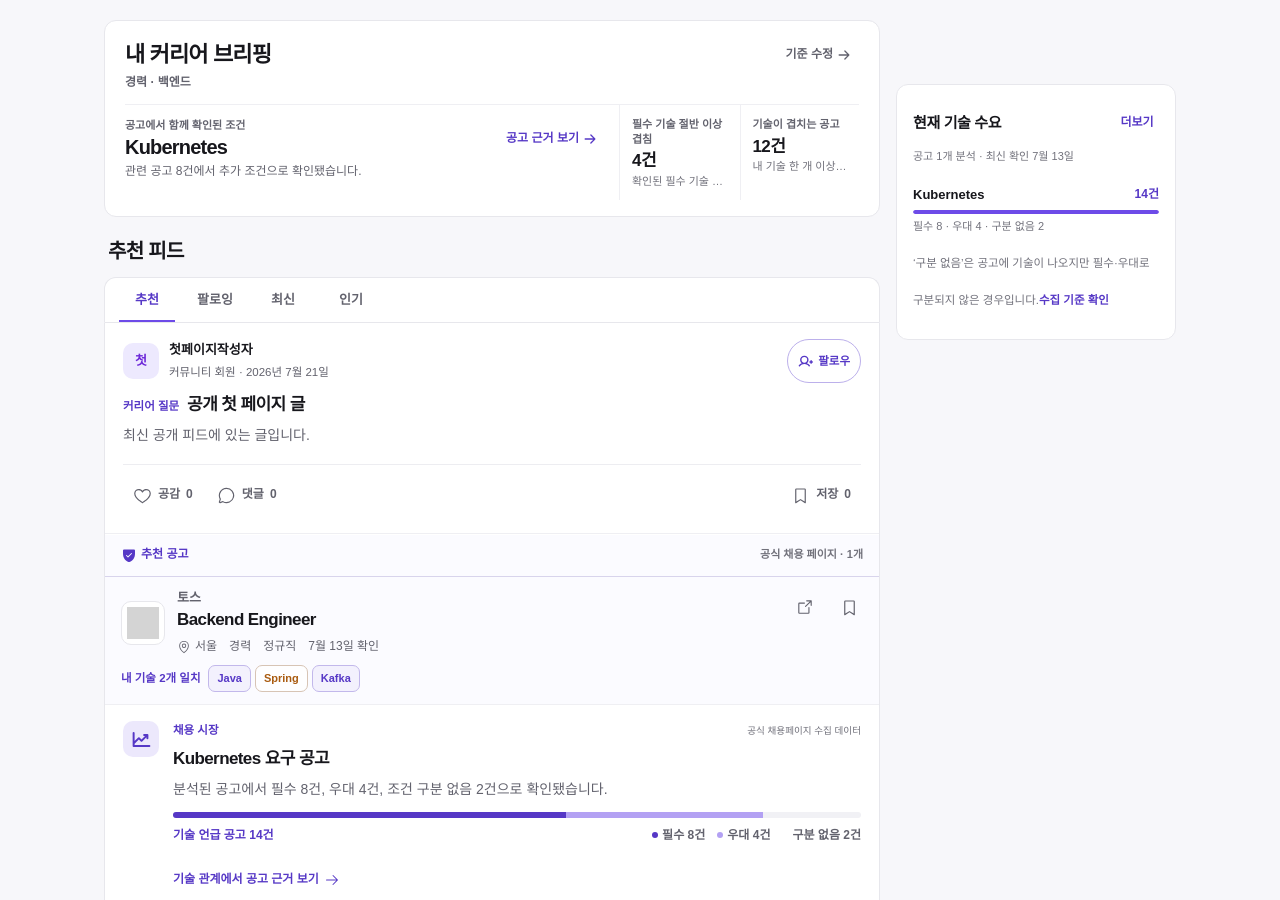
Test: HomeFeed › loads followed authors from the complete server feed beyond the public first page
Expected: the element "공개 첫 페이지 글" is shown, [105,324,879,534]
Click the tab "팔로잉" at (215, 300), box [187,278,243,322]
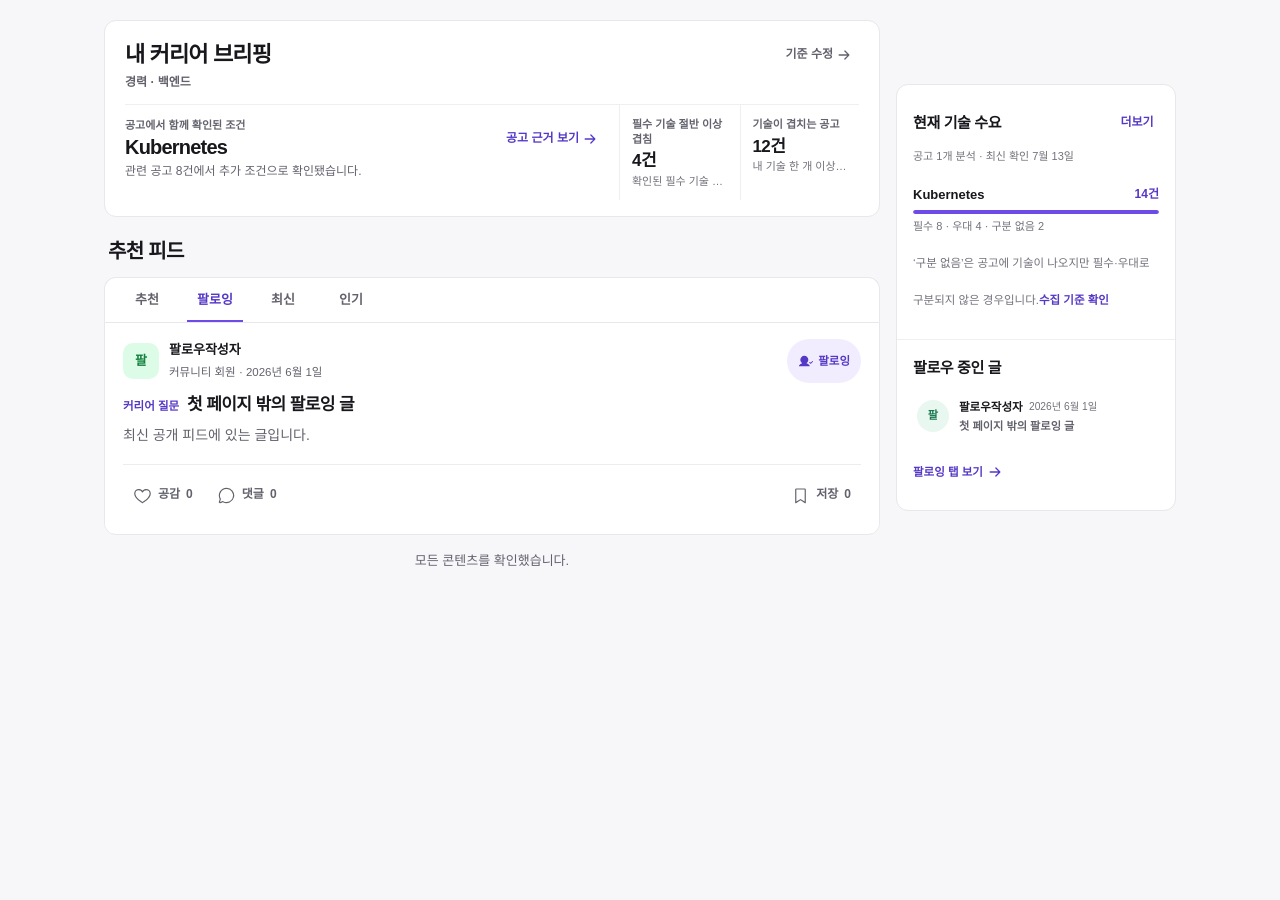
Expected: the element "첫 페이지 밖의 팔로잉 글" is shown, [105,324,879,534]
Expected: the link "공개 첫 페이지 글" is gone
